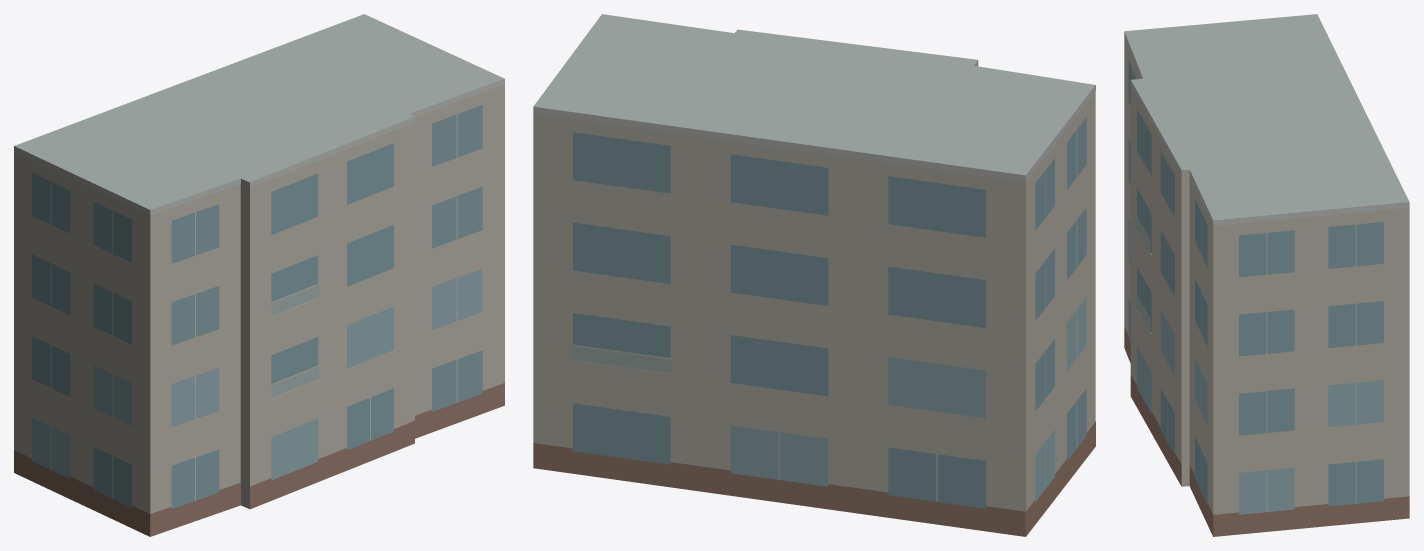
Rendered from survey-upis-32631916.glb.
3 views of the same model, side by side, from view 1: azimuth 30°, elevation 25°; view 2: azimuth 150°, elevation 25°; view 3: azimuth 270°, elevation 25° (orthographic). The views are drawn at different scales.
Visible parts, largest first — view 1: survey-upis-32631916.tmp; view 2: survey-upis-32631916.tmp; view 3: survey-upis-32631916.tmp.
Boxes of the visible parts, x1,y1,x2,y2 form: survey-upis-32631916.tmp: (14,14,504,536); survey-upis-32631916.tmp: (533,14,1095,536); survey-upis-32631916.tmp: (1124,14,1409,536).
Bounding box in the file's own units: 19.04 × 13.6 × 11.12.
